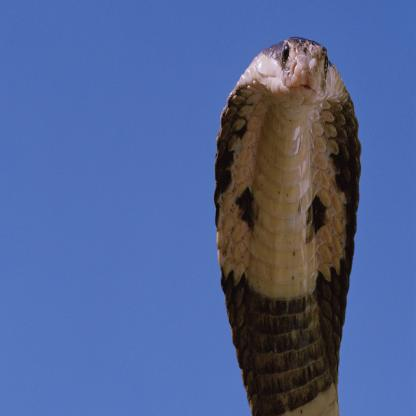Snake: (211, 33, 363, 416)
